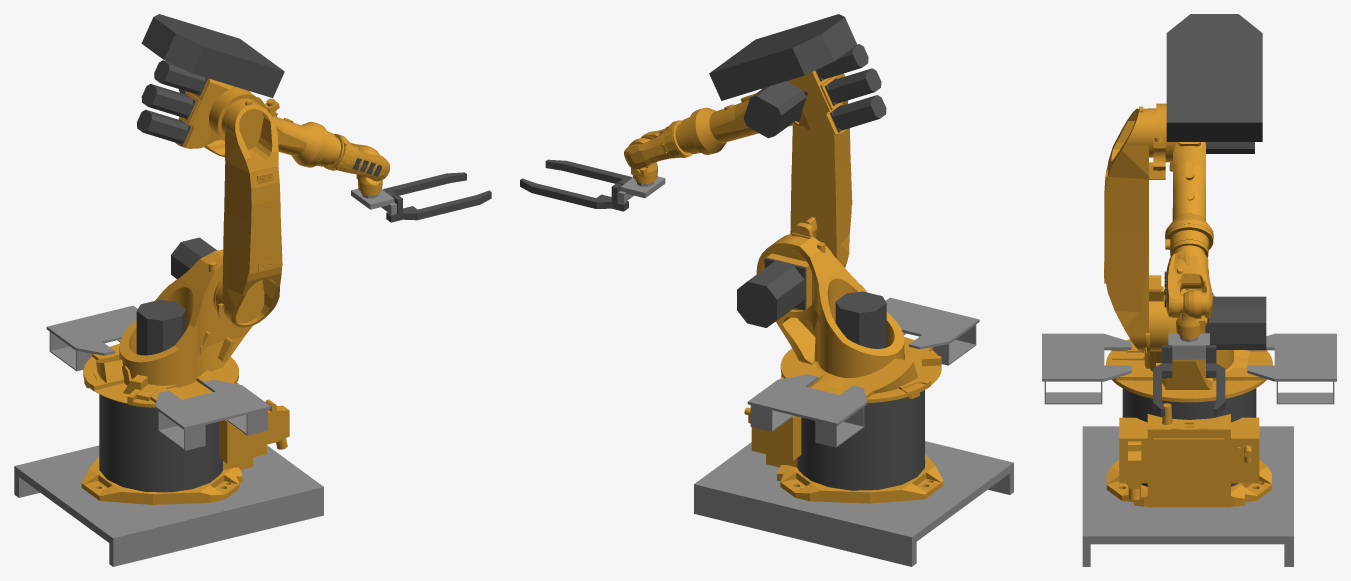
Rendered from JXB_1.fbx.
3 renders of one model, left to right at view 1: azimuth 30°, elevation 25°; view 2: azimuth 150°, elevation 25°; view 3: azimuth 270°, elevation 25°, orthographic. The views are drawn at different scales.
Visible parts, largest first — view 1: JXB_dizuo, VB42_005, VB42_014, pCube9, VB42_080, pCube8, VB42_009, VB42_016, VB42_007, VB42_011, pCube237, VB42_001 (+2 smaller); view 2: JXB_dizuo, VB42_014, pCube9, VB42_080, VB42_005, pCube8, VB42_009, VB42_016, VB42_010, VB42_007, VB42_011, VB42_004 (+3 smaller); view 3: JXB_dizuo, VB42_009, pCube8, VB42_005, pCube9, VB42_014, VB42_016, VB42_001, VB42_010, VB42_080, pCube237, VB42_012 (+2 smaller).
Part boxes in pixels (box(x1,y1,x2,y2)): JXB_dizuo: box(14, 445, 323, 566); VB42_005: box(215, 99, 282, 327); VB42_014: box(83, 249, 252, 407); pCube9: box(46, 305, 270, 450); VB42_080: box(99, 394, 222, 492); pCube8: box(141, 14, 284, 97); VB42_009: box(81, 383, 289, 504); VB42_016: box(175, 78, 325, 166); VB42_007: box(137, 60, 208, 145); VB42_011: box(136, 299, 185, 355); pCube237: box(382, 172, 491, 222); VB42_001: box(307, 124, 389, 181); JXB_dizuo: box(694, 441, 1013, 566); VB42_014: box(756, 222, 941, 402); pCube9: box(747, 297, 979, 447); VB42_080: box(797, 390, 924, 490); VB42_005: box(790, 73, 852, 267); pCube8: box(709, 14, 856, 100); VB42_009: box(744, 374, 943, 503); VB42_016: box(691, 70, 846, 154); VB42_010: box(737, 257, 806, 327); VB42_007: box(816, 44, 886, 132); VB42_011: box(835, 291, 886, 348); VB42_004: box(743, 81, 807, 138); JXB_dizuo: box(1082, 426, 1293, 566); VB42_009: box(1106, 403, 1271, 507); pCube8: box(1166, 14, 1262, 141); VB42_005: box(1104, 106, 1165, 354); pCube9: box(1042, 333, 1336, 404); VB42_014: box(1106, 289, 1272, 402); VB42_016: box(1153, 103, 1213, 238); VB42_001: box(1165, 224, 1213, 317); VB42_010: box(1205, 296, 1266, 349); VB42_080: box(1122, 388, 1256, 486); pCube237: box(1153, 345, 1225, 415); VB42_012: box(1176, 289, 1207, 338).
Bounding box in the file's own units: 1.65 × 1.78 × 0.9483.
